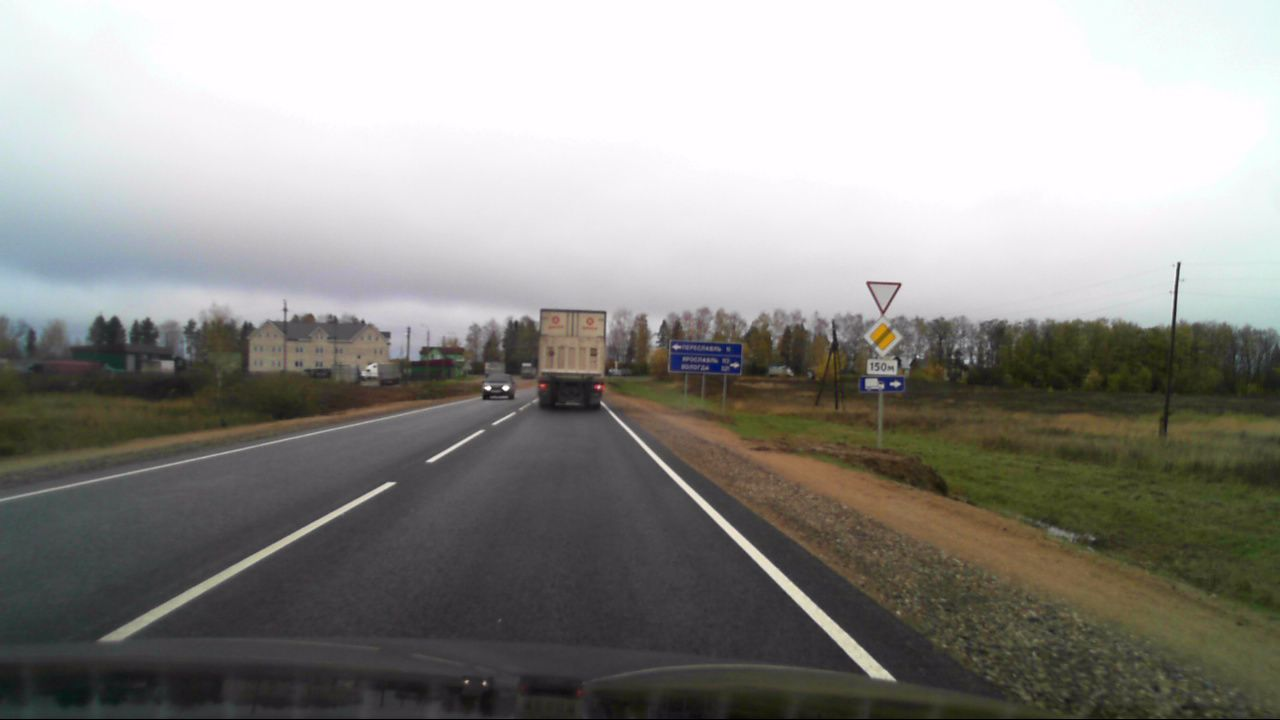main road: (862, 317, 903, 359)
